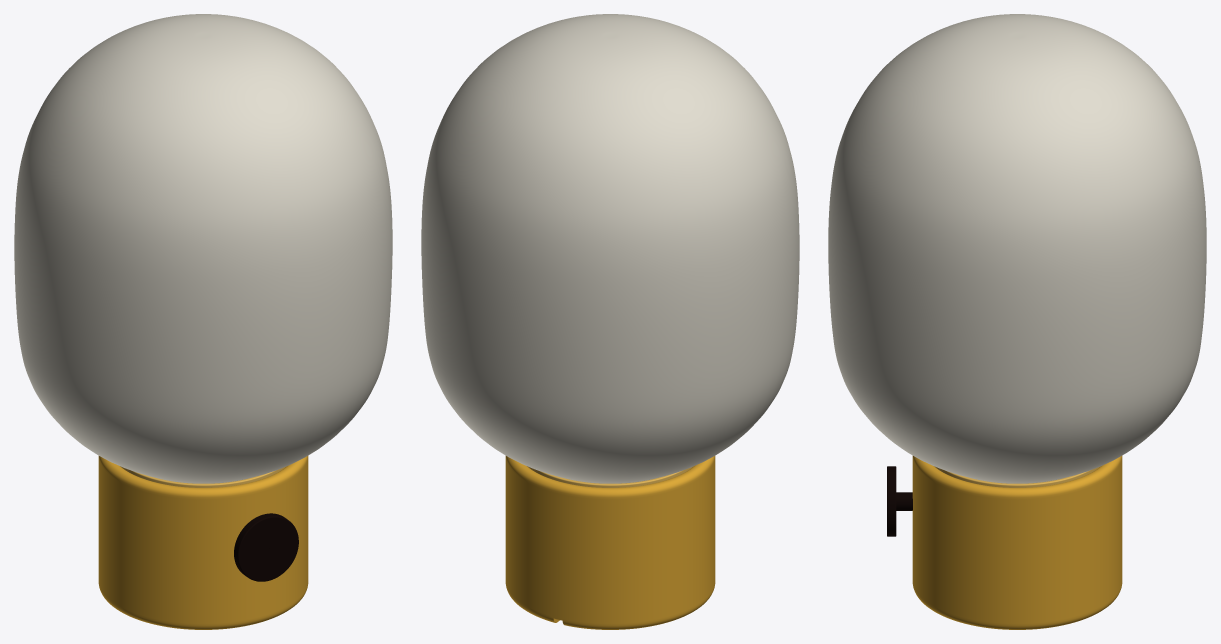
File: JWDATableLamp.glb
3 views of the same model, side by side, from view 1: azimuth 30°, elevation 25°; view 2: azimuth 150°, elevation 25°; view 3: azimuth 270°, elevation 25° (orthographic).
Parts seen in each view (by area): view 1: Buffer Layer (×4); view 2: Buffer Layer (×3); view 3: Buffer Layer (×4).
Part boxes in pixels (x1,y1,x2,y2): Buffer Layer (×4): [14, 14, 392, 629]; Buffer Layer (×3): [421, 14, 799, 629]; Buffer Layer (×4): [828, 14, 1206, 629].
Size of the model in its own units: 0.1664 by 0.2694 by 0.1664.
